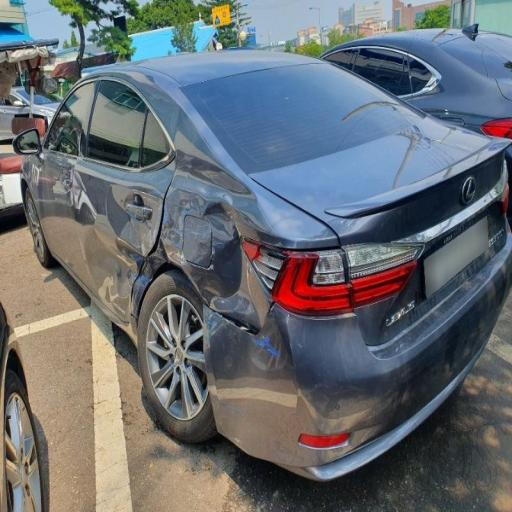broken: (106, 166, 316, 428)
dent: (120, 173, 256, 340)
scratch: (271, 360, 373, 479)
